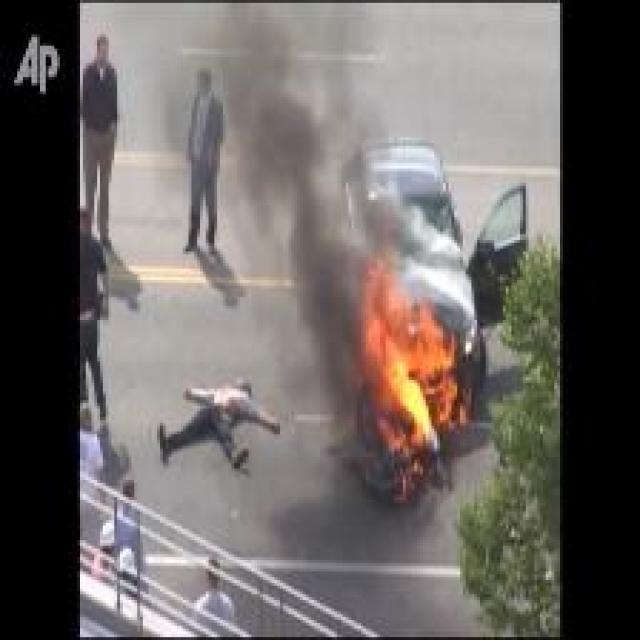Fire: (363, 257, 460, 452)
